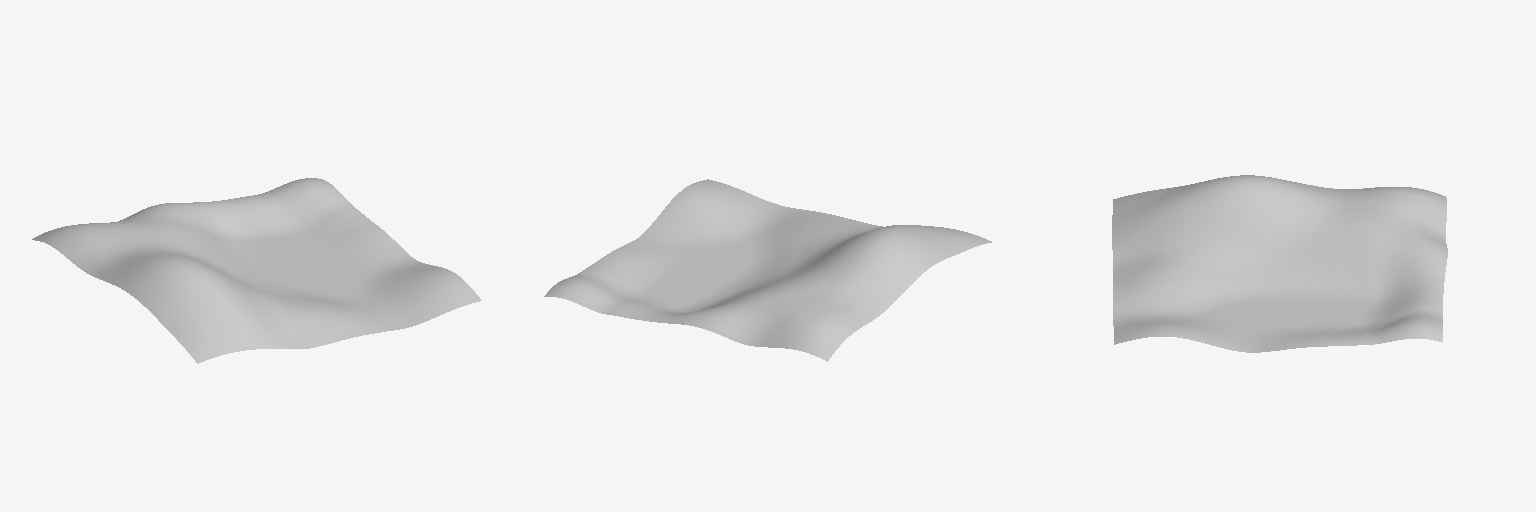
File: my_terrain.obj
3 renders of one model, left to right at view 1: azimuth 30°, elevation 25°; view 2: azimuth 150°, elevation 25°; view 3: azimuth 270°, elevation 25°, orthographic.
Parts seen in each view (by area): view 1: Plane; view 2: Plane; view 3: Plane.
Part boxes in pixels (left/top/right/bottom): Plane: left=32, top=178, right=481, bottom=363; Plane: left=544, top=179, right=991, bottom=361; Plane: left=1112, top=175, right=1447, bottom=352.
Size of the model in its own units: 201 by 37.72 by 204.